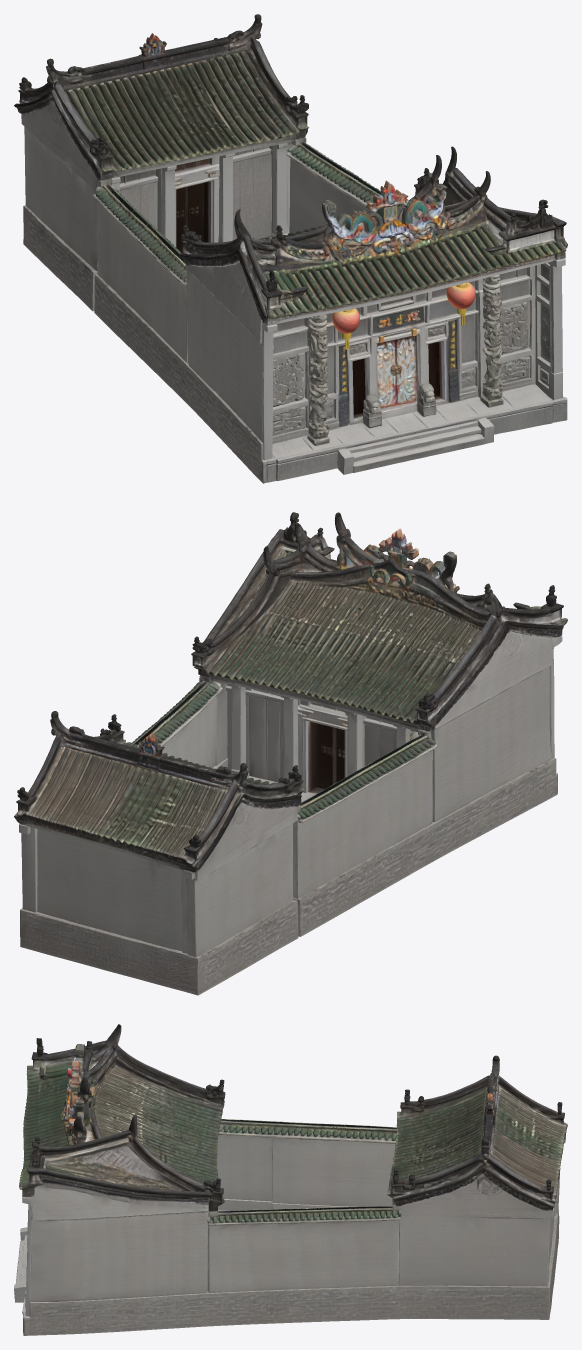
Rendered from inner-court.glb.
3 renders of one model, top to bottom at view 1: azimuth 30°, elevation 25°; view 2: azimuth 150°, elevation 25°; view 3: azimuth 270°, elevation 25°, orthographic. The views are drawn at different scales.
Visible parts, largest first — view 1: model; view 2: model; view 3: model.
Part boxes in pixels (x1=…): model: x1=14, y1=14, x2=567, y2=483; model: x1=14, y1=512, x2=567, y2=995; model: x1=14, y1=1024, x2=567, y2=1335.
Bounding box in the file's own units: 0.9965 × 0.8339 × 1.9.
1 material, 1 textured.
